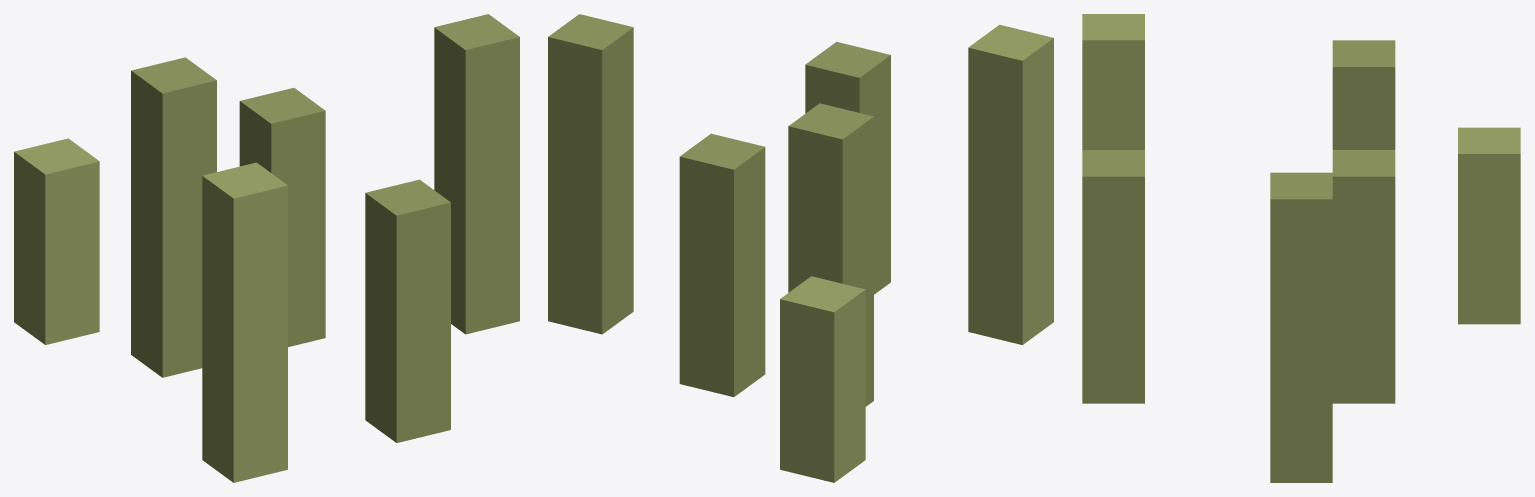
The model's file is espadana_02.glb.
3 renders of one model, left to right at view 1: azimuth 30°, elevation 25°; view 2: azimuth 150°, elevation 25°; view 3: azimuth 270°, elevation 25°, orthographic.
Parts seen in each view (by area): view 1: espadana_02; view 2: espadana_02; view 3: espadana_02.
Boxes of the visible parts, box(x1,y1,x2,y2) form: espadana_02: box(14, 14, 519, 482); espadana_02: box(548, 14, 1053, 482); espadana_02: box(1082, 14, 1520, 482).
Bounding box in the file's own units: 0.7 × 0.5 × 0.7.
